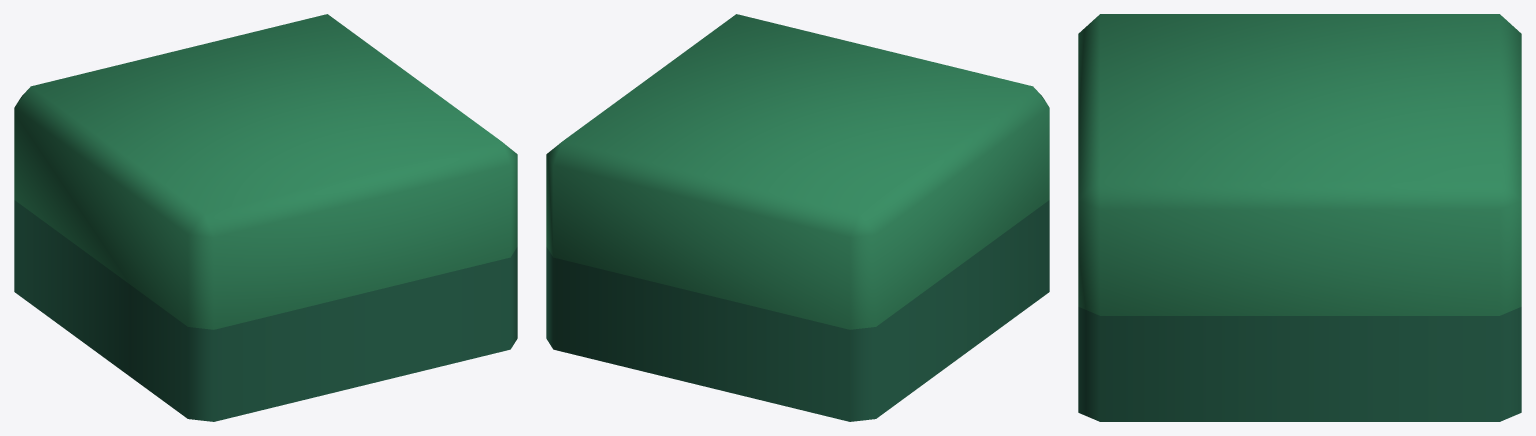
Rendered from RoofAdd_2_B_6.fbx.
3 views of the same model, side by side, from view 1: azimuth 30°, elevation 25°; view 2: azimuth 150°, elevation 25°; view 3: azimuth 270°, elevation 25° (orthographic). The views are drawn at different scales.
Visible parts, largest first — view 1: RoofAdd_2_B_6; view 2: RoofAdd_2_B_6; view 3: RoofAdd_2_B_6.
Boxes of the visible parts, <box> form: RoofAdd_2_B_6: <box>14,14,517,421</box>; RoofAdd_2_B_6: <box>546,14,1049,421</box>; RoofAdd_2_B_6: <box>1078,14,1521,421</box>.
Bounding box in the file's own units: 127 × 74.17 × 128.
